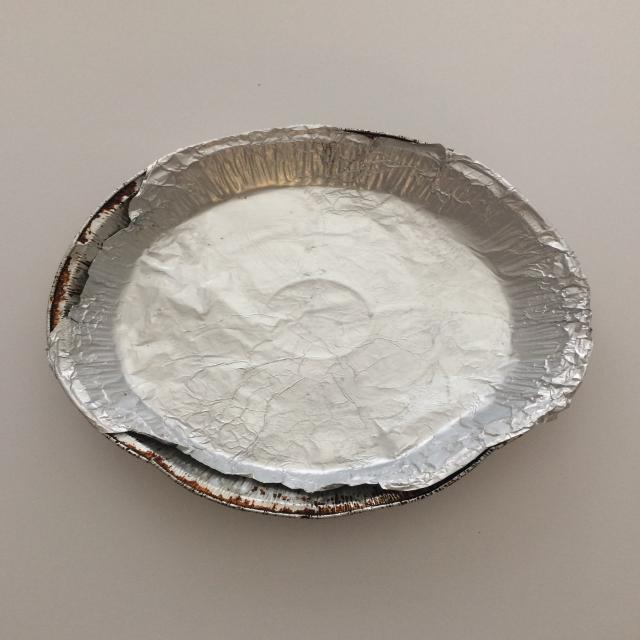metal: (45, 124, 594, 519)
